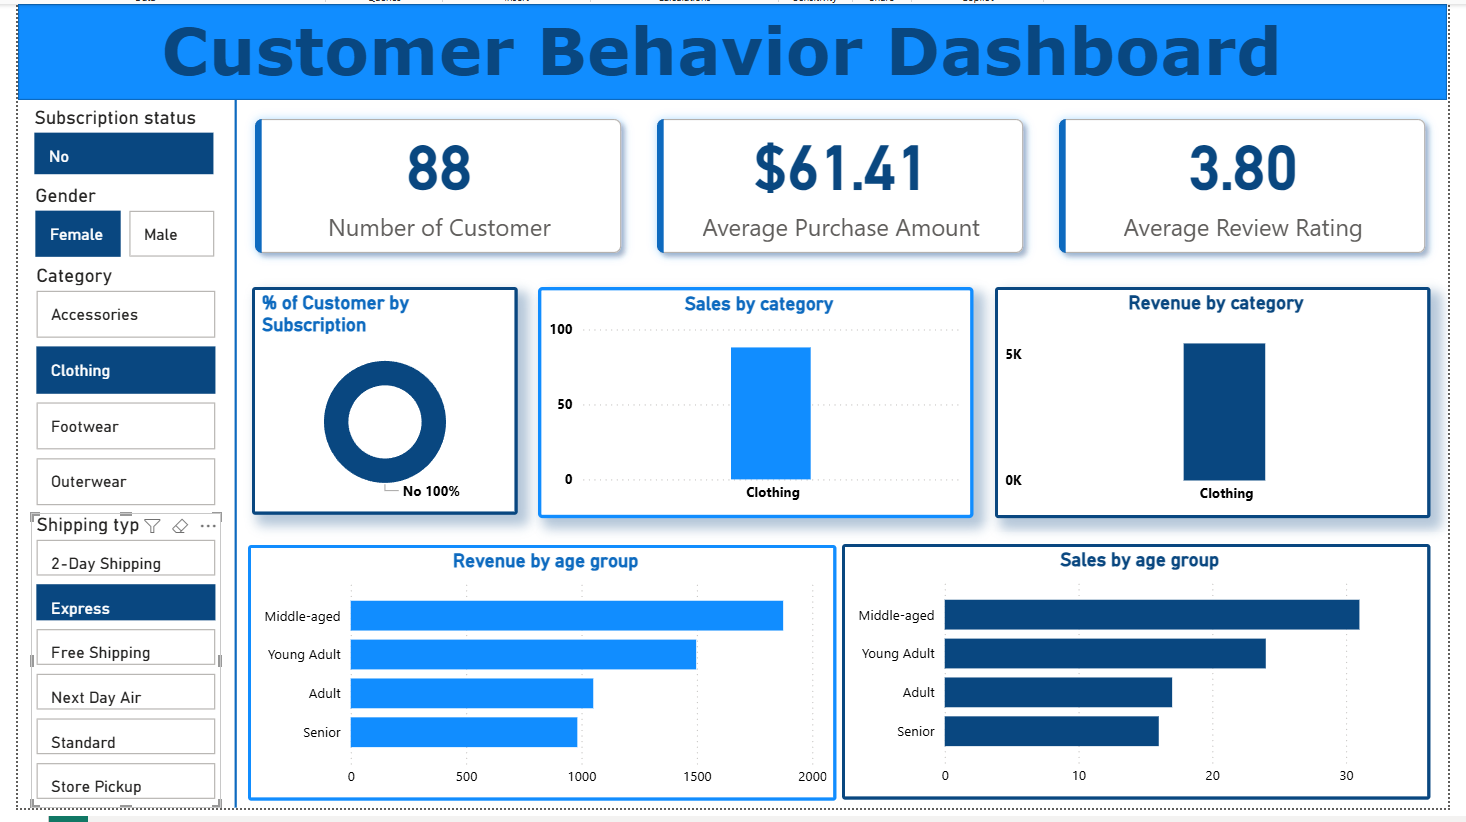

The page's visual inventory and layout, read from the dashboard file:
{"tool":"powerbi","page":{"name":"Page 1","canvas":[1280,720],"ordinal":0},"visuals":[{"type":"cardVisual","fields":{"Data":["customer_behaviour customer.Number of Customer","customer_behaviour customer.Average Purchase Amount","customer_behaviour customer.Average Review Rating"]},"box":[195.2,86,1084.5,154],"z":0},{"type":"shape","box":[0,0,1279.7,86],"z":1000},{"type":"textbox","box":[123.6,0,1033.4,86],"z":2000},{"type":"donutChart","title":"% of Customer by Subscription","fields":{"Category":["customer_behaviour customer.subscription_status"],"Y":["Count(customer_behaviour customer.customer_id)"]},"box":[210,253.6,238.2,203.6],"z":3000},{"type":"clusteredColumnChart","title":"Revenue by category","fields":{"Y":["Sum(customer_behaviour customer.purchase_amount)"],"Category":["customer_behaviour customer.category"]},"box":[874.5,253.6,390,207.3],"z":4000},{"type":"clusteredColumnChart","title":"Sales by category","fields":{"Y":["Count(customer_behaviour customer.customer_id)"],"Category":["customer_behaviour customer.category"]},"box":[465.5,253.6,390,207.3],"z":5000},{"type":"clusteredBarChart","title":"Revenue by age group","fields":{"Y":["Sum(customer_behaviour customer.purchase_amount)"],"Category":["customer_behaviour customer.age_group"]},"box":[206.4,484.5,527.3,229.1],"z":6000},{"type":"clusteredBarChart","title":"Sales by age group","fields":{"Category":["customer_behaviour customer.age_group"],"Y":["Count(customer_behaviour customer.customer_id)"]},"box":[738.2,483.6,527.3,229.1],"z":7000},{"type":"advancedSlicerVisual","fields":{"Values":["customer_behaviour customer.subscription_status"]},"box":[10,90.9,170,66.4],"z":8000},{"type":"advancedSlicerVisual","fields":{"Values":["customer_behaviour customer.gender"]},"box":[10.9,160.9,170,70.9],"z":9000},{"type":"advancedSlicerVisual","fields":{"Values":["customer_behaviour customer.category"]},"box":[11.8,232.7,170,222.7],"z":10000},{"type":"advancedSlicerVisual","fields":{"Values":["customer_behaviour customer.shipping_type"]},"box":[11.6,461.2,170.1,258.8],"z":11000},{"type":"shape","box":[183.6,86.4,22.7,633.6],"z":11001}]}

Visuals, with their boxes in screenshot pixels (x1, y1, x2, y2):
cardVisual - customer_behaviour customer.Number of Customer x customer_behaviour customer.Average Purchase Amount: 223 97 1443 270
shape: 4 0 1443 97
textbox: 143 0 1305 97
"% of Customer by Subscription" donutChart: 240 285 508 514
"Revenue by category" clusteredColumnChart: 987 285 1425 518
"Sales by category" clusteredColumnChart: 527 285 966 518
"Revenue by age group" clusteredBarChart: 236 545 829 802
"Sales by age group" clusteredBarChart: 834 544 1427 801
advancedSlicerVisual - customer_behaviour customer.subscription_status: 15 102 206 177
advancedSlicerVisual - customer_behaviour customer.gender: 16 181 207 261
advancedSlicerVisual - customer_behaviour customer.category: 17 262 208 512
advancedSlicerVisual - customer_behaviour customer.shipping_type: 17 519 208 809
shape: 210 97 236 809
